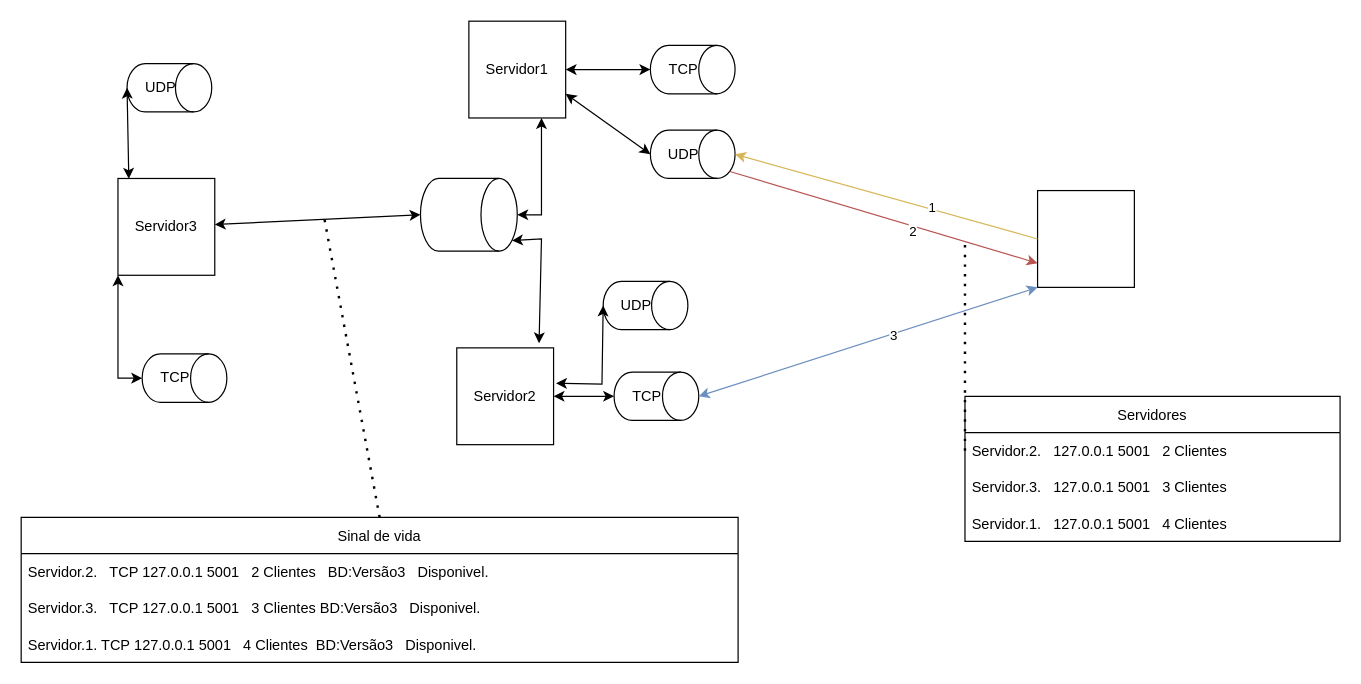
The diagram is 1361 pixels wide and 684 high, and some of its shapes have lost their labels. The shapes that lost their labels are listed below. From the top down, each one's centre as x and y in pixels, then its label:
At point 468,214: "Multicast".
At point 1085,238: "Cliente".
